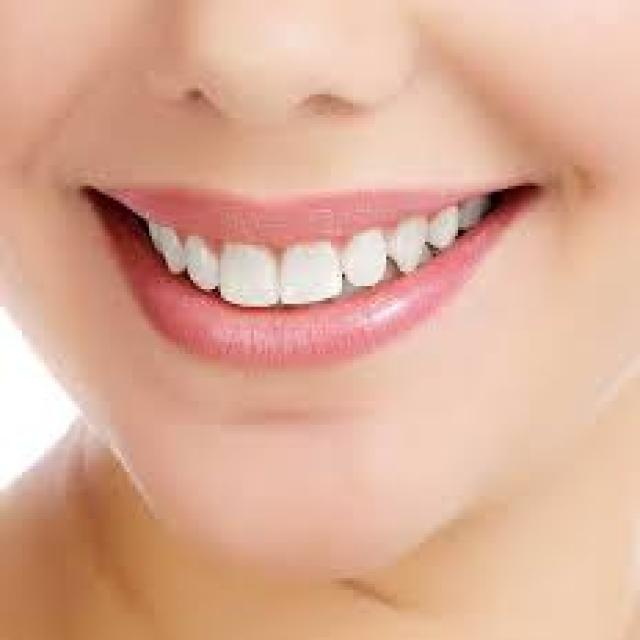tooth: (221, 245, 281, 312), (279, 248, 339, 298), (392, 212, 425, 280), (342, 236, 389, 283), (188, 233, 218, 286), (430, 209, 461, 248), (160, 224, 185, 271), (464, 201, 488, 224), (143, 221, 160, 245)
